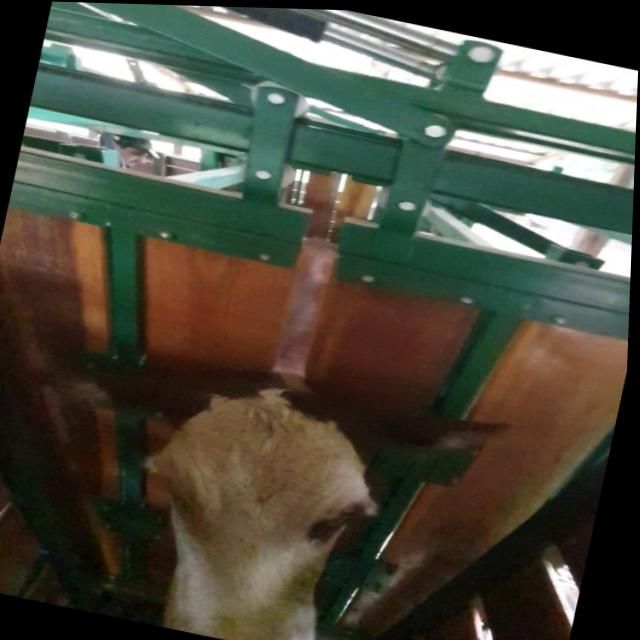cowFace: (117, 360, 387, 640)
